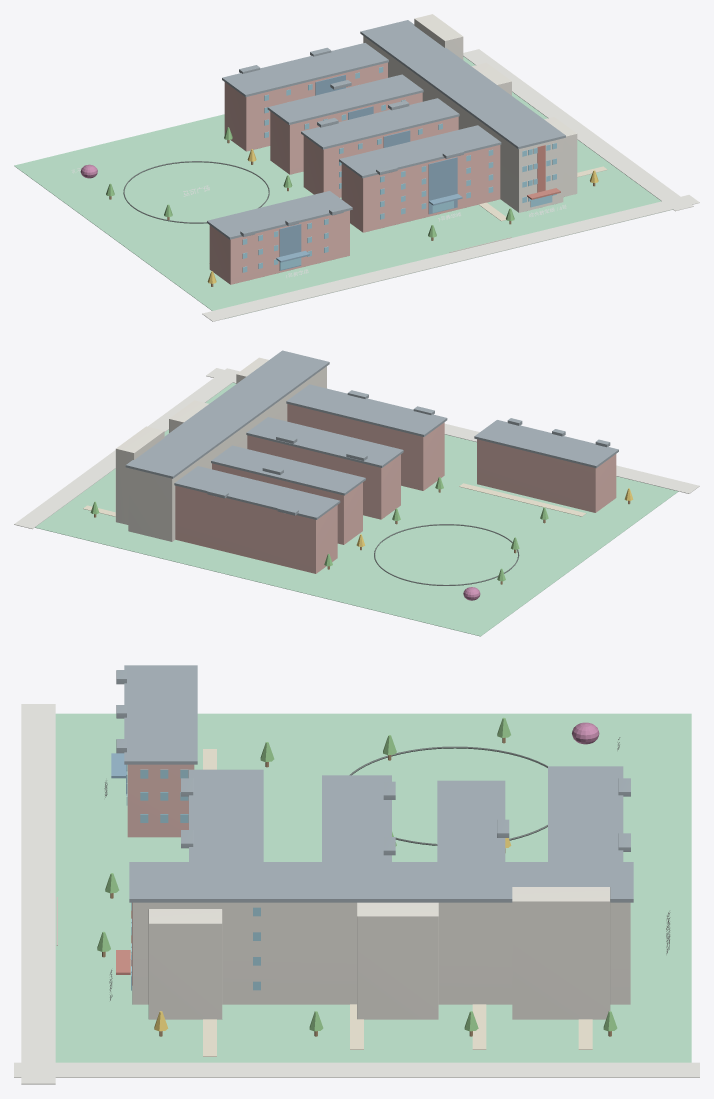
The model's file is teaching_complex_1_6.glb.
The picture shows the model from 3 angles, top to bottom: view 1: azimuth 30°, elevation 25°; view 2: azimuth 150°, elevation 25°; view 3: azimuth 270°, elevation 25°; orthographic projection. The views are drawn at different scales.
Parts seen in each view (by area): view 1: complex_green_base, teaching_4_spine_roof, teaching_2_body, complex_bottom_road, teaching_1_body, teaching_4_spine_body, teaching_6_body, teaching_6_roof, complex_right_road, teaching_2_roof, teaching_3_roof, teaching_5_roof (+9 smaller); view 2: complex_green_base, teaching_6_body, teaching_4_spine_roof, teaching_1_body, teaching_4_spine_body, teaching_2_body, teaching_3_body, teaching_2_roof, teaching_6_roof, teaching_3_roof, teaching_1_roof, teaching_5_roof (+7 smaller); view 3: complex_green_base, teaching_4_spine_body, teaching_4_spine_roof, teaching_4_right_step_top, complex_bottom_road, complex_right_road, teaching_4_right_step_mid, teaching_4_right_step_bottom, teaching_1_roof, teaching_6_roof, teaching_2_roof, teaching_3_roof (+3 smaller).
Part boxes in pixels (bbox=[...]): complex_green_base: bbox=[14, 56, 672, 319]; teaching_4_spine_roof: bbox=[360, 20, 565, 149]; teaching_2_body: bbox=[341, 145, 500, 232]; complex_bottom_road: bbox=[202, 195, 699, 321]; teaching_1_body: bbox=[209, 210, 349, 284]; teaching_4_spine_body: bbox=[363, 36, 563, 212]; teaching_6_body: bbox=[224, 62, 387, 151]; teaching_6_roof: bbox=[222, 43, 388, 96]; complex_right_road: bbox=[463, 49, 693, 211]; teaching_2_roof: bbox=[339, 125, 501, 178]; teaching_3_roof: bbox=[301, 98, 459, 149]; teaching_5_roof: bbox=[267, 74, 423, 124]; complex_green_base: bbox=[35, 382, 678, 636]; teaching_6_body: bbox=[175, 485, 337, 573]; teaching_4_spine_roof: bbox=[125, 350, 329, 478]; teaching_1_body: bbox=[477, 439, 616, 512]; teaching_4_spine_body: bbox=[128, 366, 326, 541]; teaching_2_body: bbox=[287, 404, 444, 490]; teaching_3_body: bbox=[247, 435, 400, 519]; teaching_2_roof: bbox=[286, 384, 447, 436]; teaching_6_roof: bbox=[174, 466, 340, 519]; teaching_3_roof: bbox=[246, 417, 403, 467]; teaching_1_roof: bbox=[474, 420, 618, 468]; teaching_5_roof: bbox=[211, 445, 365, 495]; complex_green_base: bbox=[55, 713, 691, 1062]; teaching_4_spine_body: bbox=[132, 902, 630, 1004]; teaching_4_spine_roof: bbox=[129, 862, 633, 902]; teaching_4_right_step_top: bbox=[512, 887, 610, 1019]; complex_bottom_road: bbox=[21, 704, 55, 1084]; complex_right_road: bbox=[14, 1062, 699, 1077]; teaching_4_right_step_mid: bbox=[357, 902, 438, 1019]; teaching_4_right_step_bottom: bbox=[148, 909, 222, 1019]; teaching_1_roof: bbox=[124, 665, 197, 764]; teaching_6_roof: bbox=[548, 766, 623, 861]; teaching_2_roof: bbox=[189, 769, 263, 861]; teaching_3_roof: bbox=[322, 775, 391, 861].
Size of the model in its own units: 110 by 16.37 by 84.
